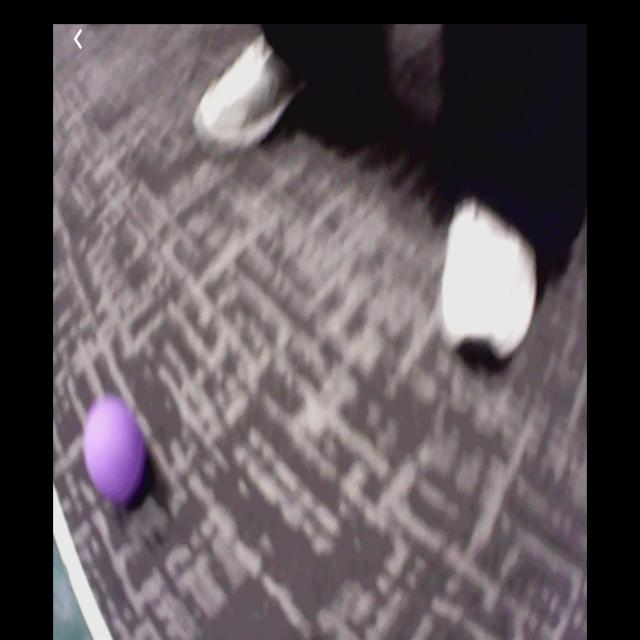ball: (85, 398, 147, 499)
